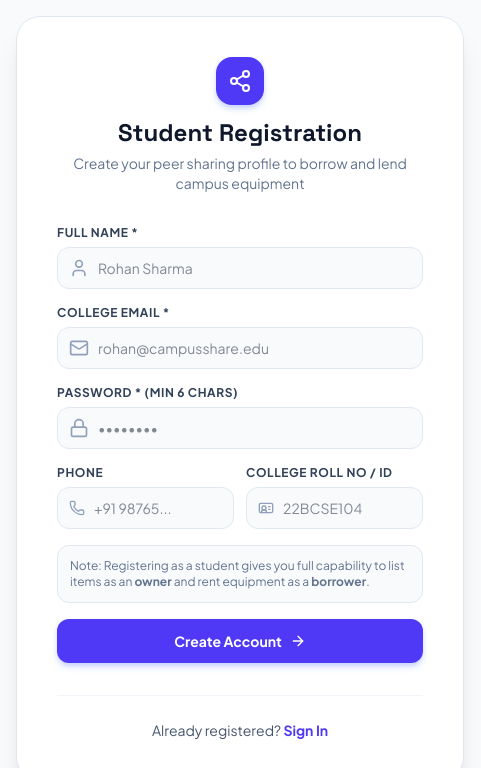
Scenario: Forms and Validation Tests › validates password length on student registration
In the field with placeholder "Rohan Sharma": [240, 268] box [57,247,423,289], type "Test Student"
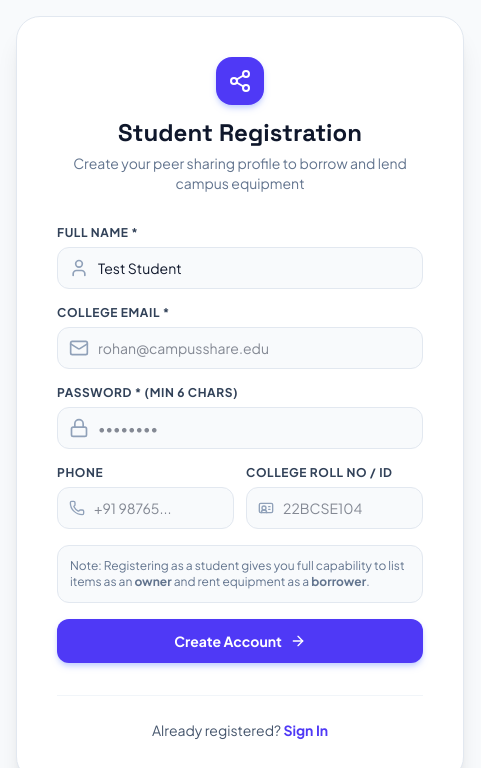
In the field with placeholder "rohan@campusshare.edu": [240, 348] box [57,327,423,369], type "test.student@campusshare.edu"
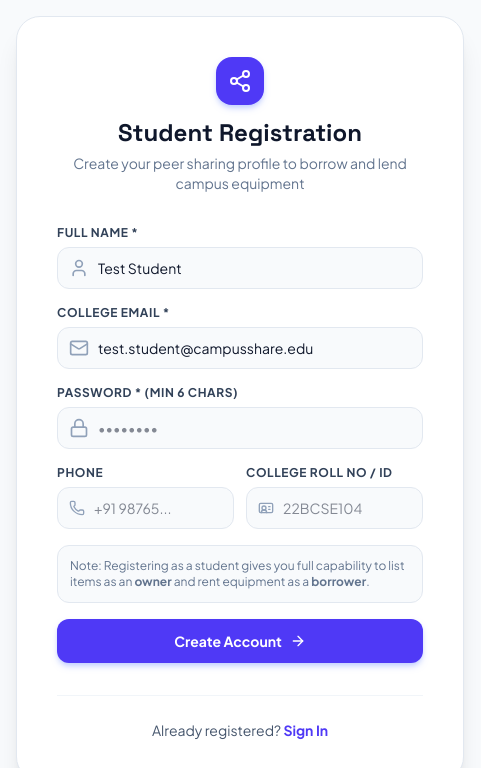
Password shorter than 6 characters
In the password field with placeholder "••••••••": [240, 428] box [57,407,423,449], type "123"
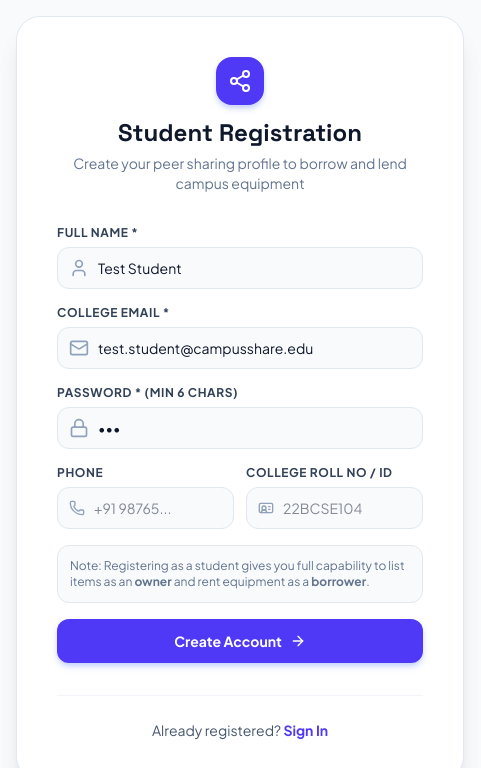
Click the button "Create Account": [240, 641] box [57,619,423,663]
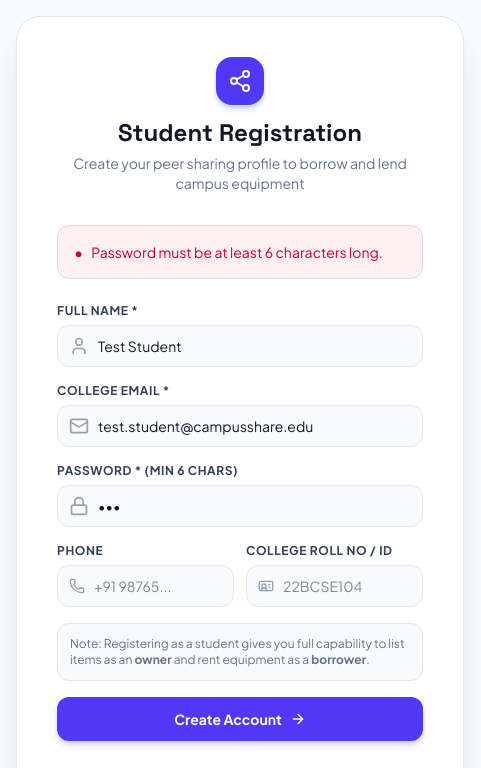
Check: the text "Password must be at least 6 characters long." is shown, box [91,242,383,262]
